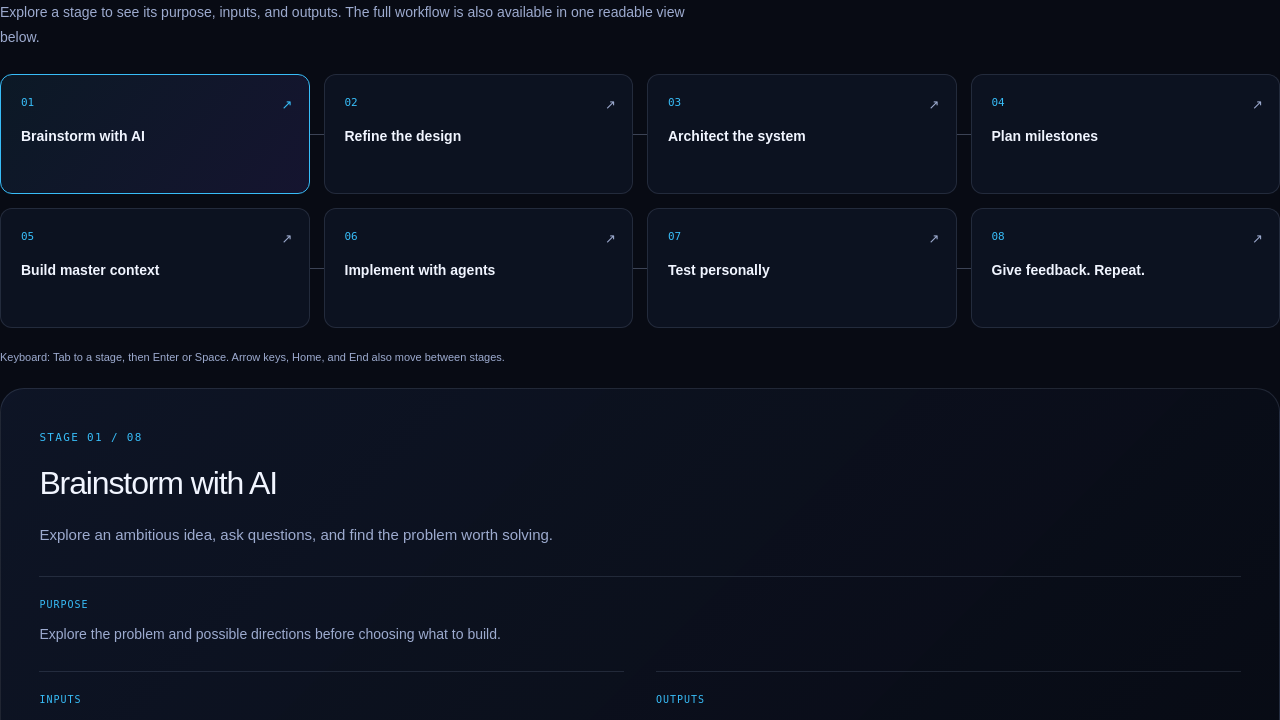
Test: workflow selection › updates the detail region and exposes one pressed stage
Step 1. Click the button "07 Test personally ↗" → (719, 270), box 647,208 -> 956,328
(page scrolled)
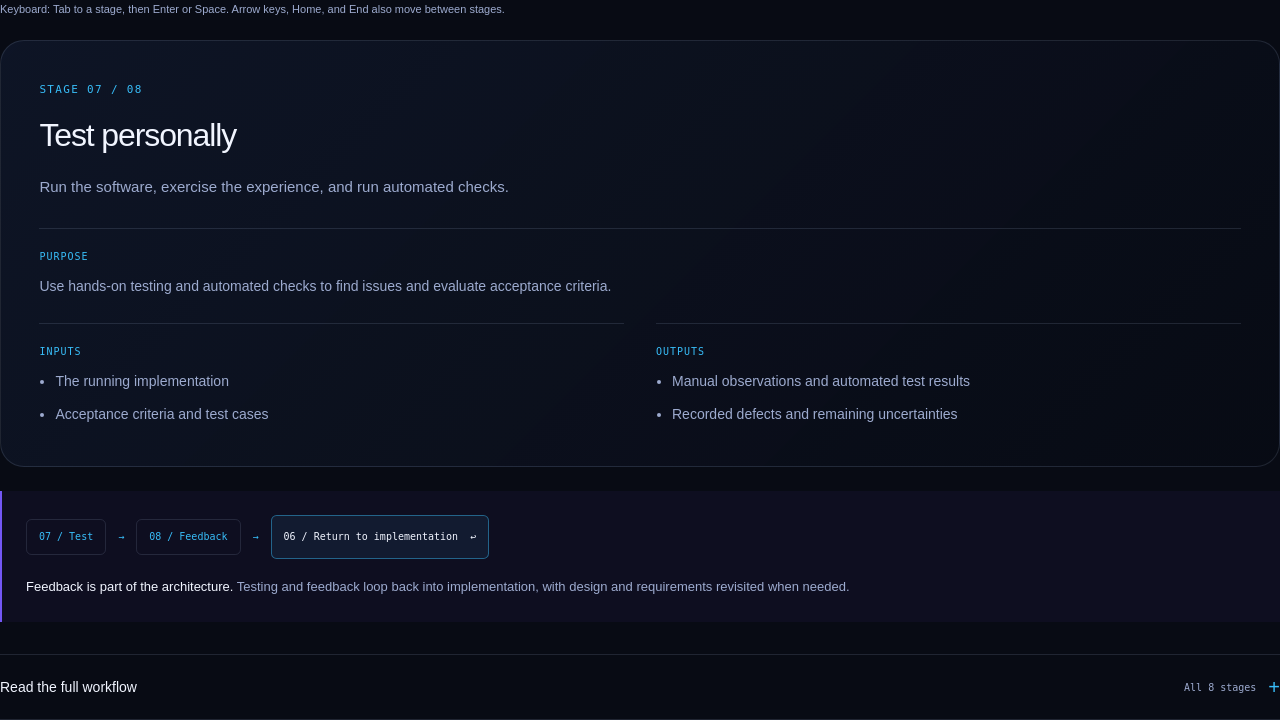
Check: the text "Purpose" is shown, box 39,251 -> 89,262
Check: the list item "Manual observations and automated test results" is shown, box 672,373 -> 970,389
